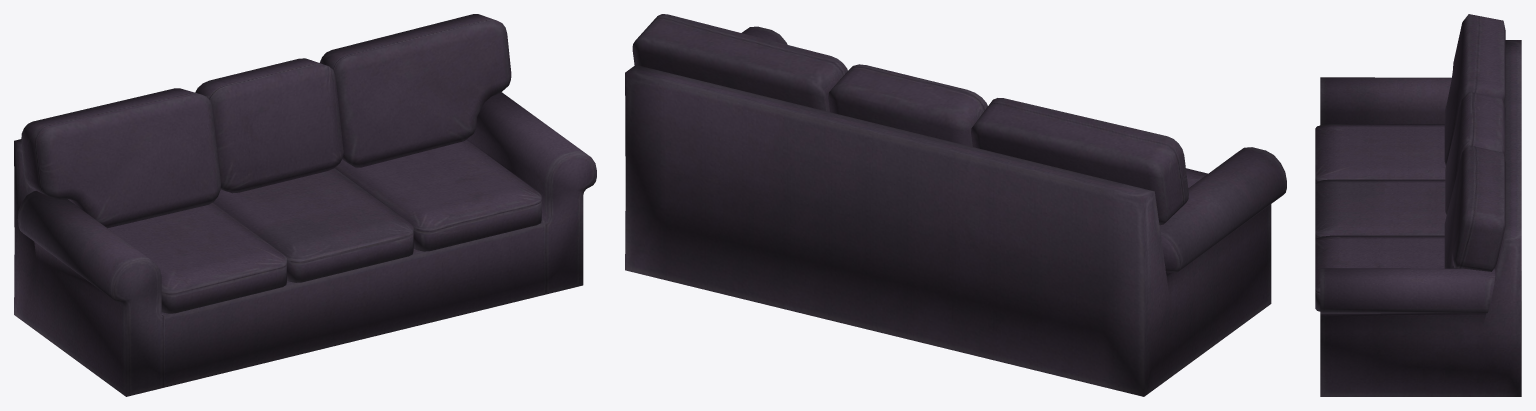
The model's file is sofa.glb.
3 views of the same model, side by side, from view 1: azimuth 30°, elevation 25°; view 2: azimuth 150°, elevation 25°; view 3: azimuth 270°, elevation 25° (orthographic). The views are drawn at different scales.
Visible parts, largest first — view 1: node_Couch_9592_1; view 2: node_Couch_9592_1; view 3: node_Couch_9592_1.
Part boxes in pixels (x1,y1,x2,y2): node_Couch_9592_1: (14, 14, 596, 396); node_Couch_9592_1: (625, 14, 1286, 396); node_Couch_9592_1: (1315, 14, 1521, 396).
Size of the model in its own units: 2.12 by 0.8611 by 0.8713.
Materials: 1 (1 with a texture image).
